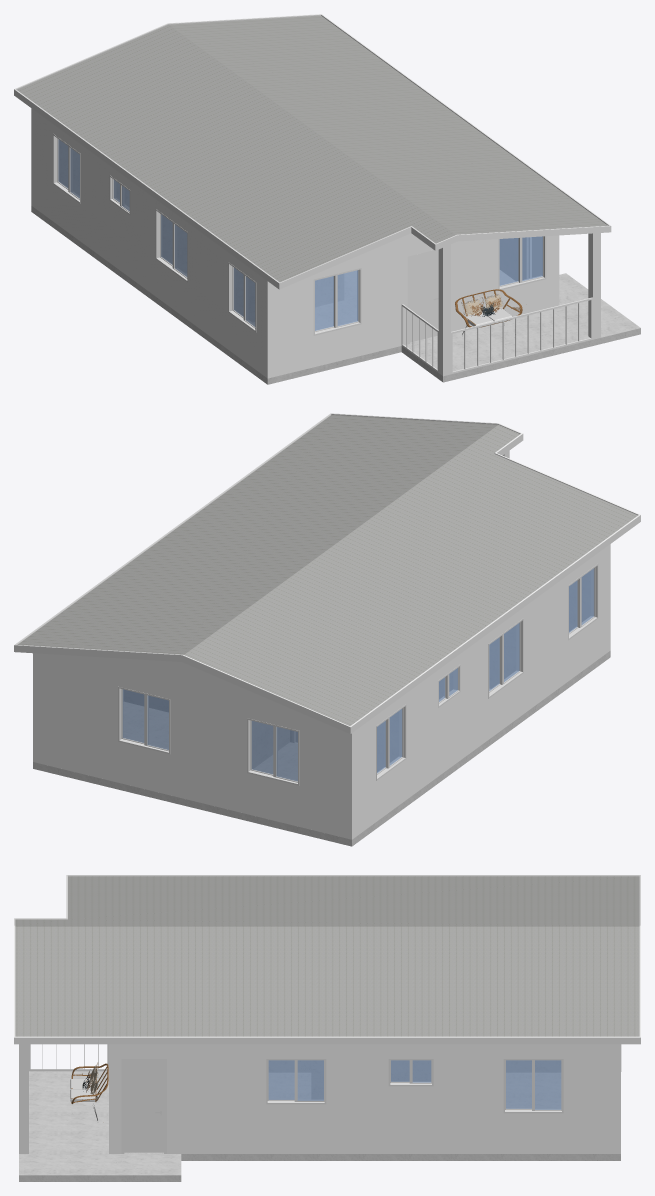
The model's file is house_3.glb.
3 views of the same model, one above another, from view 1: azimuth 30°, elevation 25°; view 2: azimuth 150°, elevation 25°; view 3: azimuth 270°, elevation 25° (orthographic). The views are drawn at different scales.
Visible parts, largest first — view 1: house_3; view 2: house_3; view 3: house_3.
Boxes of the visible parts, x1=… form: house_3: x1=14, y1=14, x2=640, y2=384; house_3: x1=14, y1=413, x2=640, y2=846; house_3: x1=14, y1=875, x2=640, y2=1181.
Bounding box in the file's own units: 8.5 × 3.49 × 12.55.
Materials: 13 (6 with a texture image).
